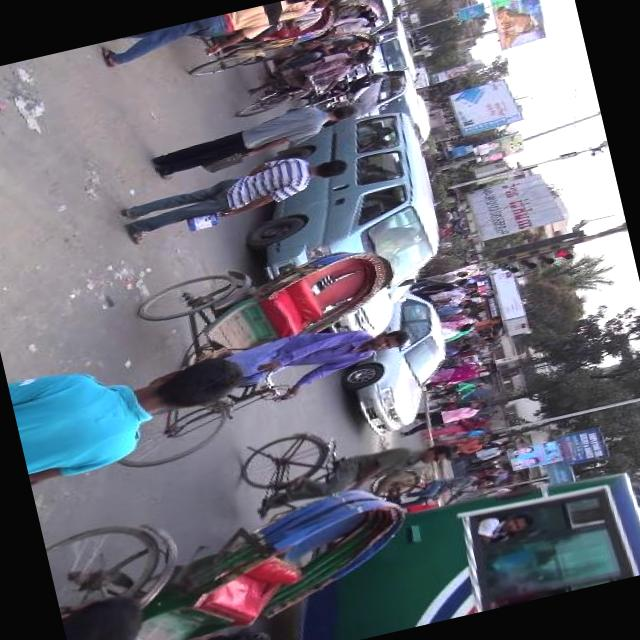bus: (409, 462, 640, 622)
car: (326, 280, 465, 442), (316, 264, 427, 346)
motorcycle: (78, 230, 430, 478), (43, 454, 423, 640), (174, 0, 363, 81), (219, 28, 387, 117), (299, 0, 395, 49), (291, 84, 364, 120)
truck: (219, 96, 457, 322), (353, 18, 412, 80)
